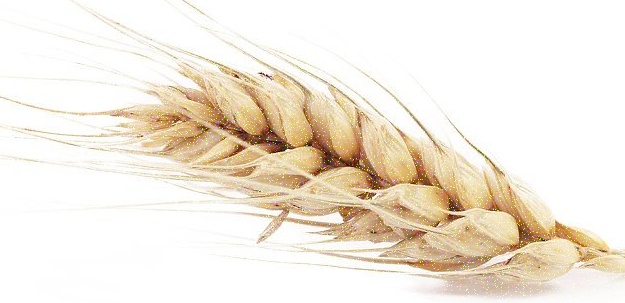wheat: (61, 15, 616, 271)
